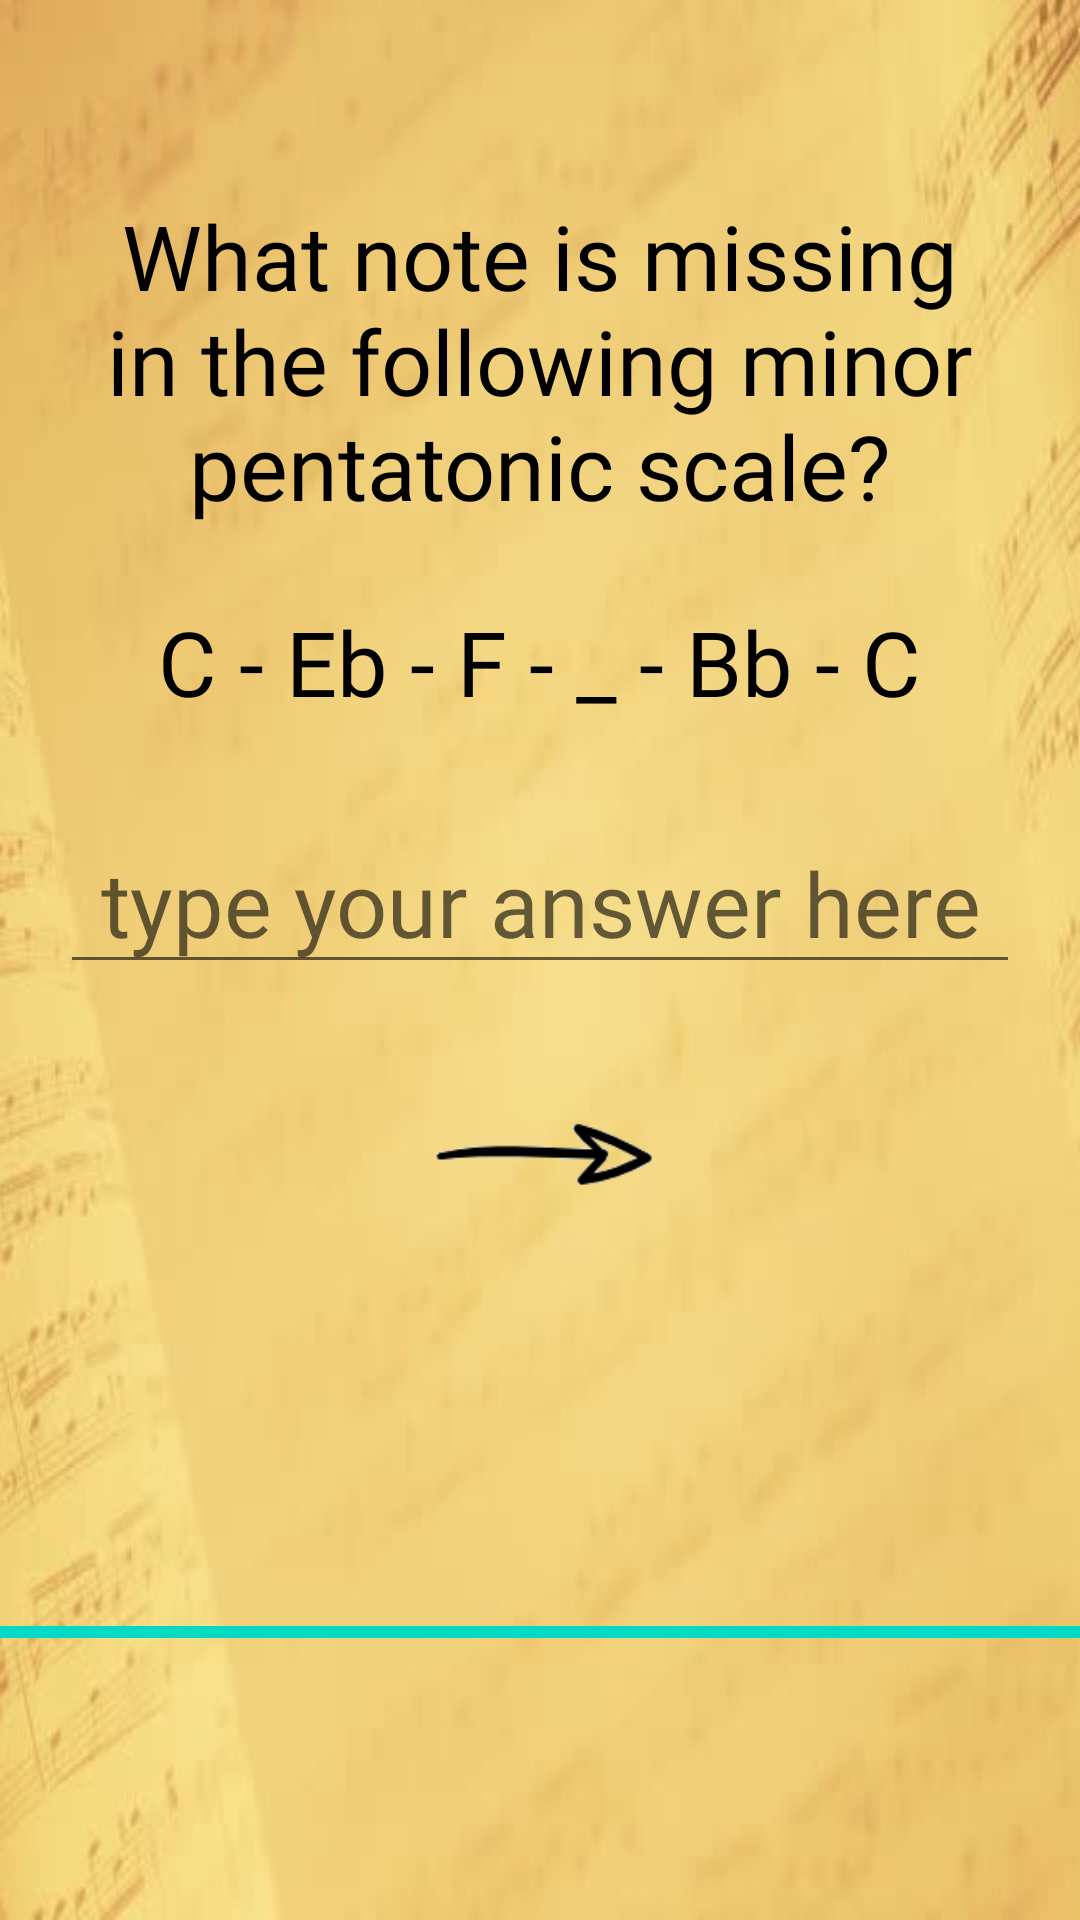

Where icons sit on this 1080x1920 app screen, as (x1, y1, x2, y2):
arrow: (436, 1124, 652, 1185)
